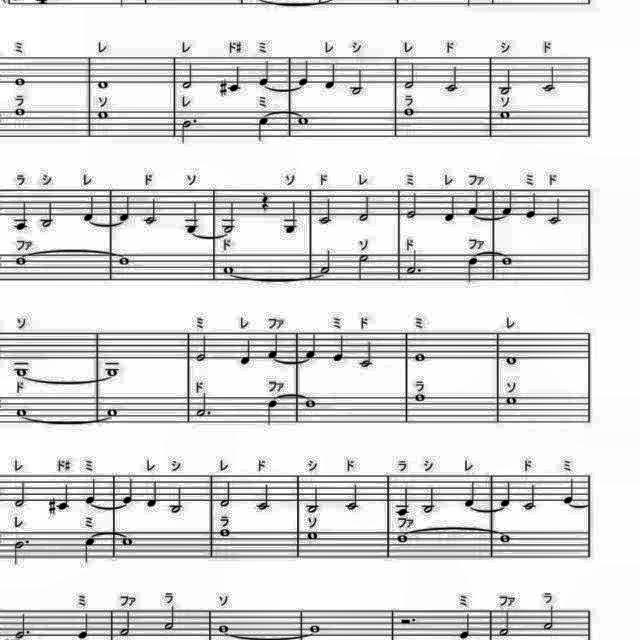Diez: (45, 495, 57, 517), (216, 76, 228, 98)
Full-note: (214, 623, 242, 640), (304, 622, 324, 638), (102, 364, 122, 378), (116, 252, 132, 268), (12, 252, 28, 268), (95, 77, 113, 91), (10, 74, 28, 88), (412, 350, 428, 364), (496, 531, 512, 545), (118, 534, 134, 548), (96, 107, 112, 121), (220, 264, 236, 278), (502, 393, 518, 407), (104, 405, 120, 419), (296, 113, 312, 127), (413, 391, 429, 405), (394, 531, 410, 545), (11, 364, 29, 376), (498, 255, 514, 268), (12, 406, 28, 419), (304, 396, 320, 408), (12, 106, 28, 118), (503, 354, 519, 366), (216, 528, 232, 540), (496, 108, 512, 120), (306, 530, 322, 542), (402, 106, 418, 118)
Half-dot: (11, 535, 33, 567), (10, 610, 30, 640), (178, 114, 198, 144), (192, 392, 212, 420), (406, 250, 426, 278)
Half-note: (218, 200, 238, 234), (356, 338, 376, 369), (116, 608, 134, 640), (542, 62, 560, 94), (441, 62, 459, 94), (257, 482, 275, 514), (348, 68, 366, 99), (343, 481, 361, 512), (496, 609, 514, 639), (38, 201, 56, 231), (354, 253, 372, 283), (11, 479, 29, 509), (168, 485, 186, 515), (141, 196, 159, 226), (521, 483, 539, 513), (419, 485, 436, 515), (356, 195, 372, 225), (196, 333, 212, 363), (404, 60, 420, 90), (182, 61, 198, 91), (406, 191, 422, 221), (306, 485, 322, 515), (318, 197, 334, 227), (217, 479, 233, 509), (548, 197, 564, 226), (160, 606, 176, 634), (498, 66, 514, 94), (542, 606, 558, 634), (318, 249, 334, 277)
Half-rest: (399, 615, 421, 629)
Quarter-note: (280, 199, 300, 235), (10, 198, 30, 232), (393, 484, 411, 520), (182, 199, 200, 233), (80, 535, 100, 565), (264, 397, 282, 427), (56, 481, 72, 513), (322, 60, 338, 92), (456, 612, 474, 640), (258, 59, 274, 90), (144, 478, 160, 509), (236, 337, 252, 368), (562, 475, 578, 505), (524, 189, 540, 219), (443, 193, 459, 223), (82, 477, 98, 507), (122, 475, 138, 505), (228, 63, 244, 93), (297, 57, 313, 87), (332, 335, 348, 365), (74, 610, 90, 640), (497, 479, 513, 509), (258, 115, 274, 145), (462, 479, 478, 507), (304, 332, 320, 360), (266, 332, 282, 360), (82, 194, 98, 222), (116, 196, 132, 224), (500, 189, 514, 219), (467, 256, 481, 286), (466, 188, 480, 216)
Quarter-rest: (259, 190, 273, 214)
